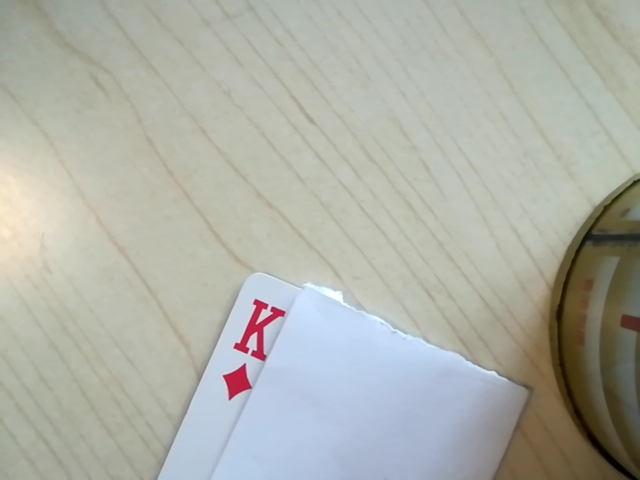fk k: (216, 292, 290, 406)
